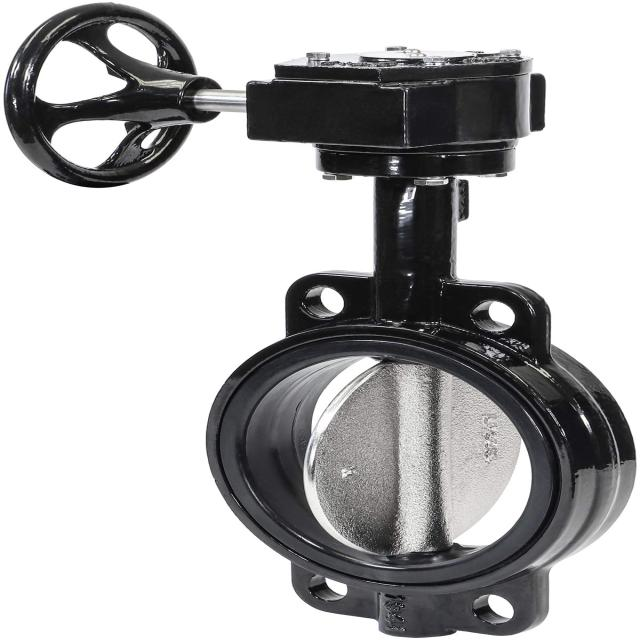Wheel Handle Valve Threaded: (0, 0, 215, 196)
